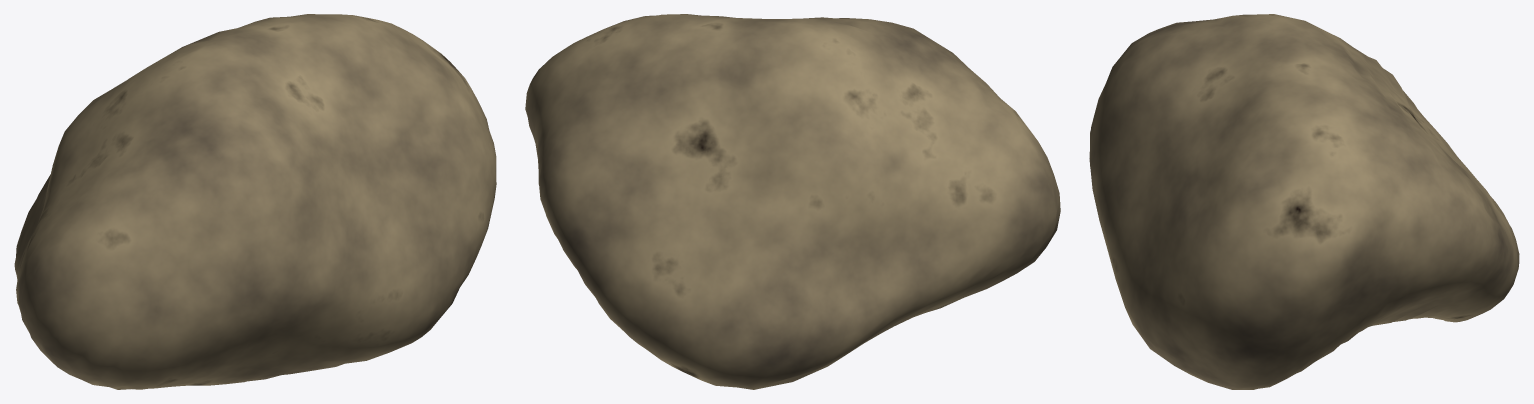
File: potato.glb
The picture shows the model from 3 angles, left to right: view 1: azimuth 30°, elevation 25°; view 2: azimuth 150°, elevation 25°; view 3: azimuth 270°, elevation 25°; orthographic projection. The views are drawn at different scales.
Parts seen in each view (by area): view 1: rock; view 2: rock; view 3: rock.
Part boxes in pixels (bbox=[...]): rock: bbox=[14, 14, 496, 389]; rock: bbox=[525, 14, 1060, 389]; rock: bbox=[1089, 14, 1519, 389].
Size of the model in its own units: 1.44 by 0.8472 by 1.13.
Materials: 1 (1 with a texture image).
